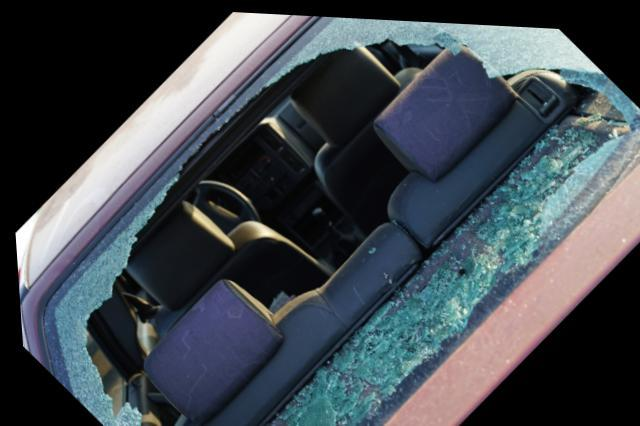glass shatter: (38, 13, 640, 426)
